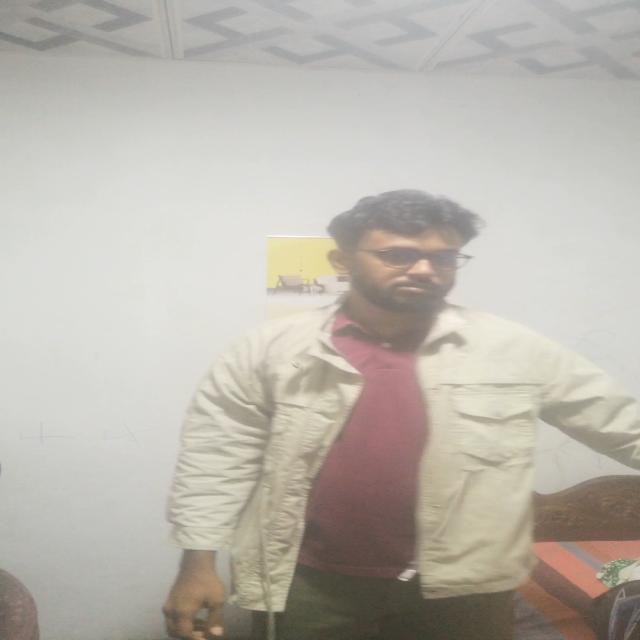Jacket_Wearer: (148, 312, 640, 586)
Person: (149, 187, 637, 640)
